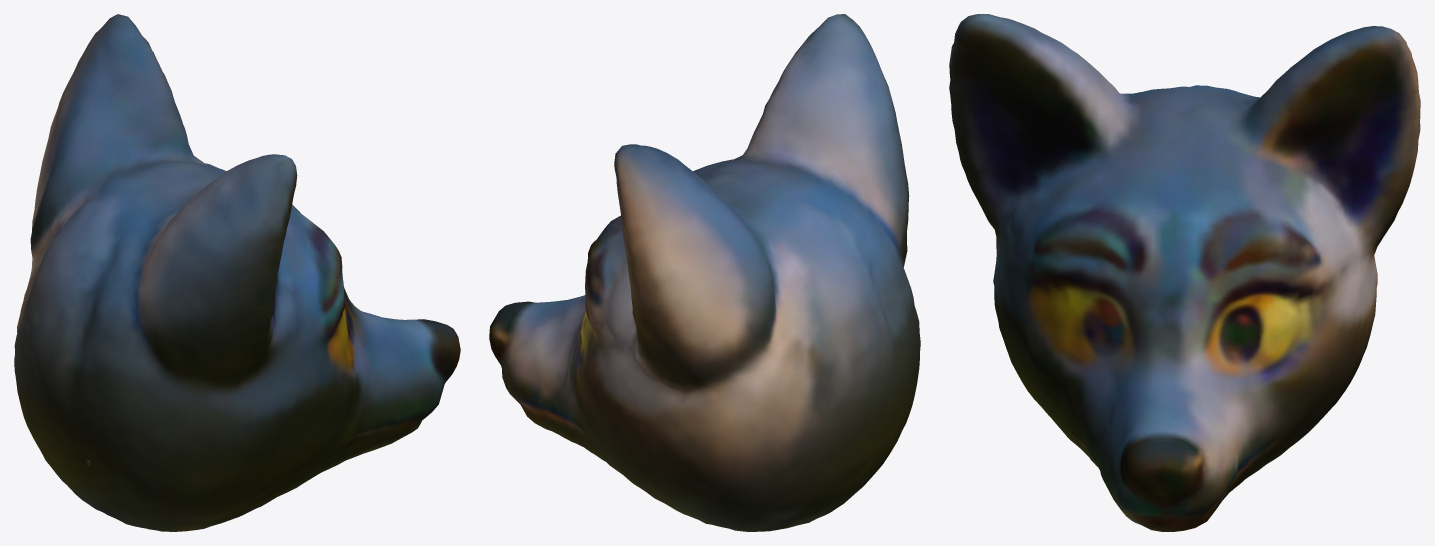
The model's file is Create_fox_with_Oval_face_with_large_eyes_full_eyebrows_an_0614154824_preview.obj.
3 renders of one model, left to right at view 1: azimuth 30°, elevation 25°; view 2: azimuth 150°, elevation 25°; view 3: azimuth 270°, elevation 25°, orthographic. The views are drawn at different scales.
Parts seen in each view (by area): view 1: Mesh1; view 2: Mesh1; view 3: Mesh1.
Part boxes in pixels (x1,y1,x2,y2): Mesh1: (14, 14, 460, 531); Mesh1: (489, 14, 920, 531); Mesh1: (949, 14, 1420, 531).
Bounding box in the file's own units: 1.18 × 1.2 × 1.12.
1 material, 1 textured.
